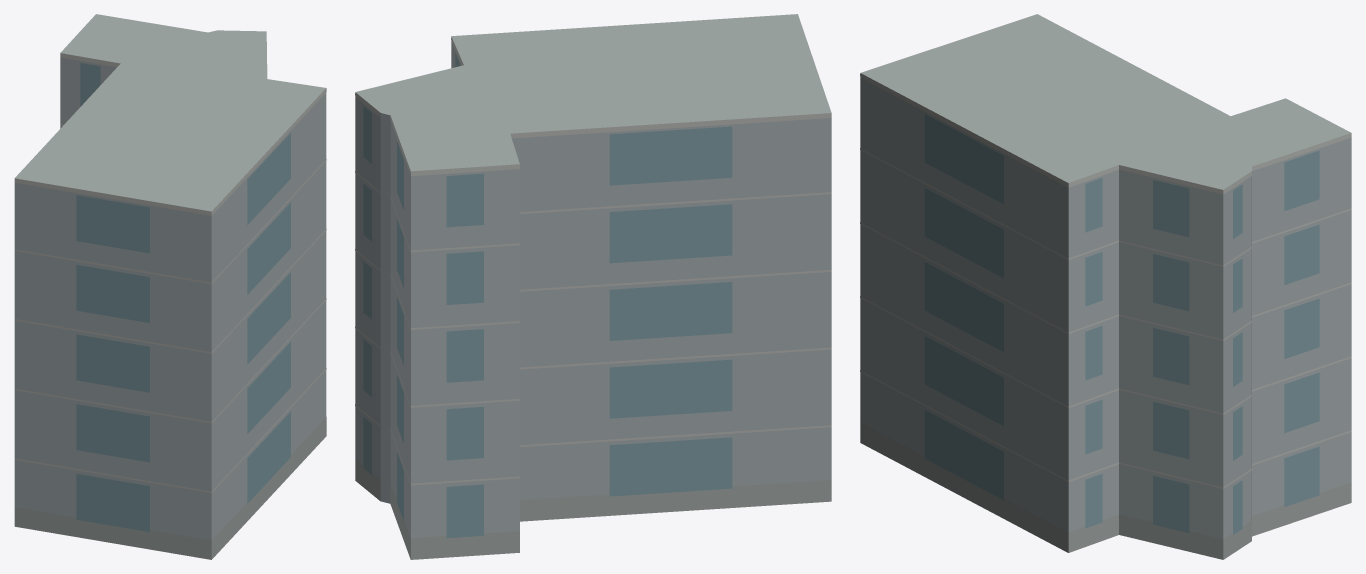
The model's file is survey-upis-32716327.glb.
3 views of the same model, side by side, from view 1: azimuth 30°, elevation 25°; view 2: azimuth 150°, elevation 25°; view 3: azimuth 270°, elevation 25° (orthographic). The views are drawn at different scales.
Visible parts, largest first — view 1: survey-upis-32716327.tmp; view 2: survey-upis-32716327.tmp; view 3: survey-upis-32716327.tmp.
Part boxes in pixels (box(x1,y1,x2,y2)): survey-upis-32716327.tmp: box(14, 14, 326, 559); survey-upis-32716327.tmp: box(355, 14, 831, 559); survey-upis-32716327.tmp: box(860, 14, 1351, 559).
Bounding box in the file's own units: 19.81 × 19.4 × 23.37.
